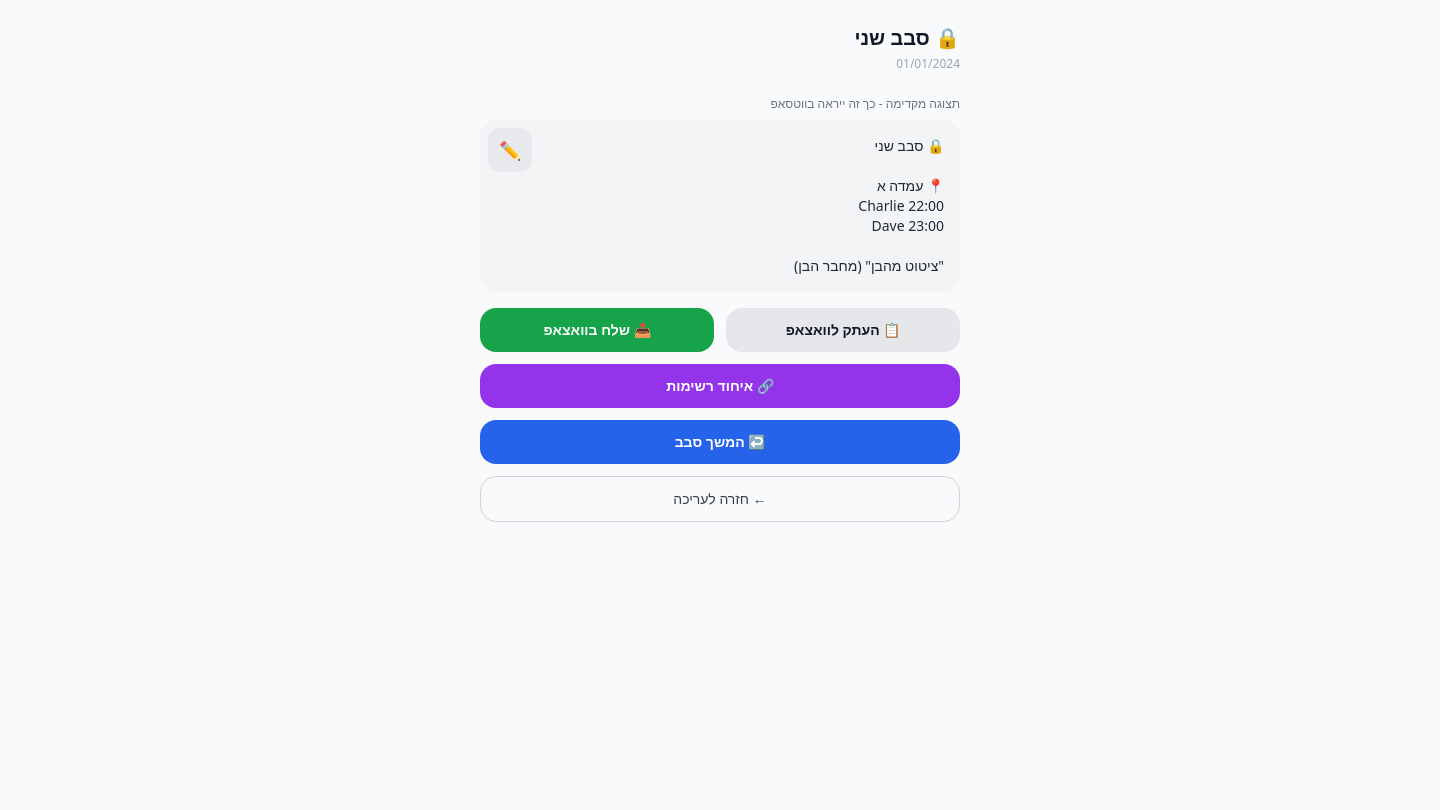
Test: ResultScreen — continued round shows two-option modal › cancel button closes the modal
This screenshot has width=1440, height=810.
Click the button "🔗 איחוד רשימות": (720, 386) [480,364,960,408]
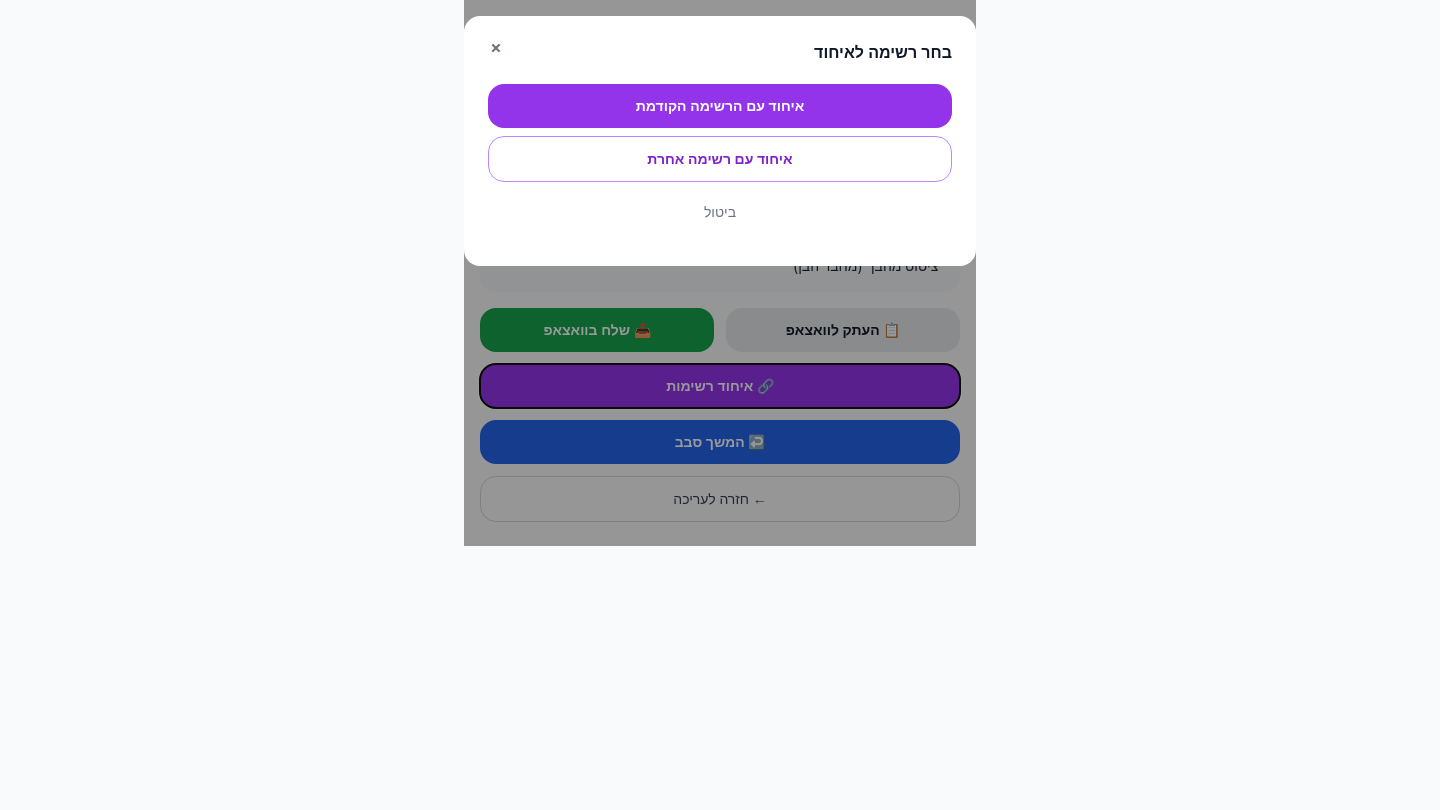
Expected: the button "איחוד עם הרשימה הקודמת" is shown, [488,84,952,128]
Click the button "ביטול": (720, 212) [488,190,952,234]
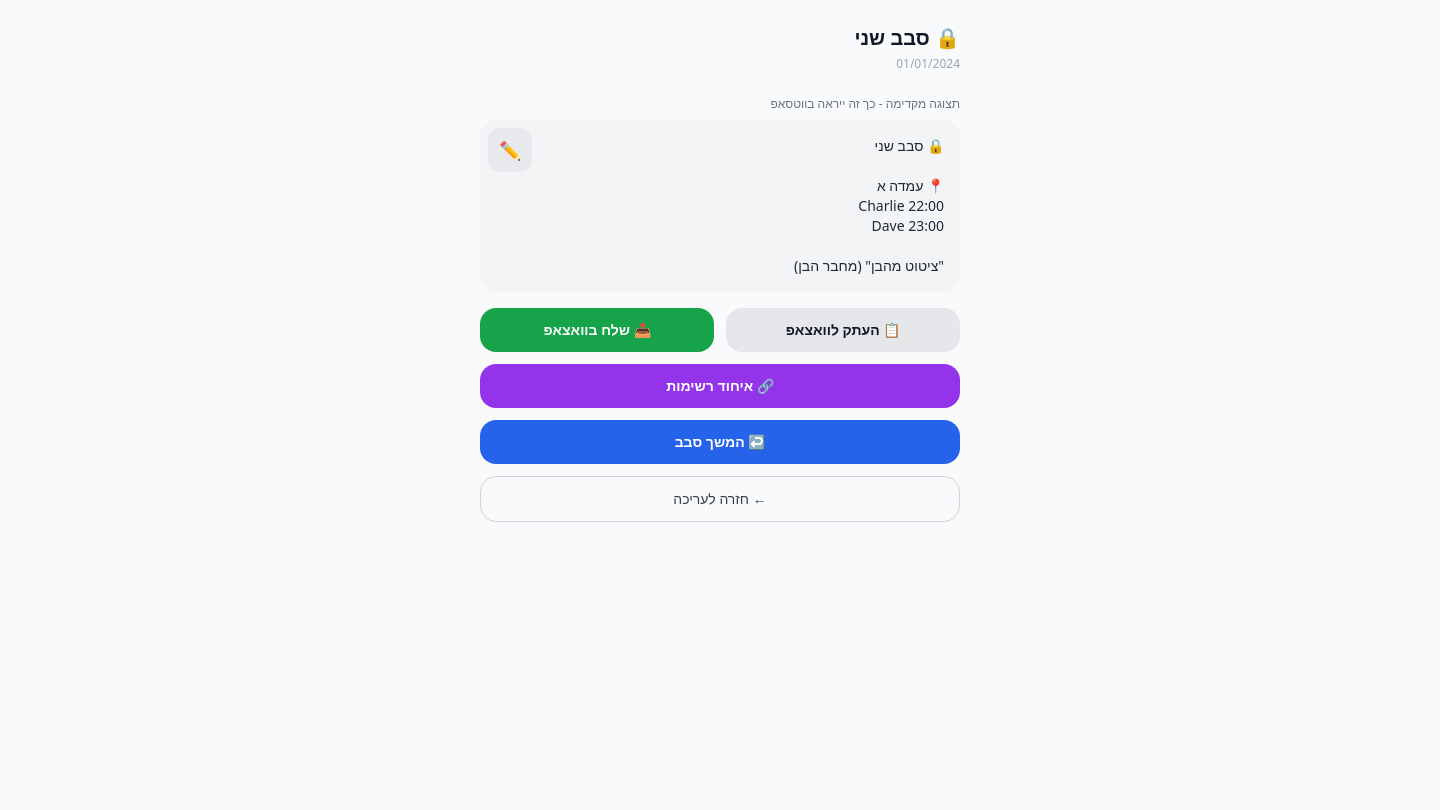
Expected: the button "איחוד עם הרשימה הקודמת" is gone
